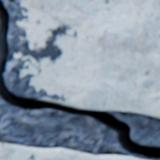brick: (15, 0, 159, 117), (0, 143, 143, 159)
crack: (0, 0, 159, 158)
